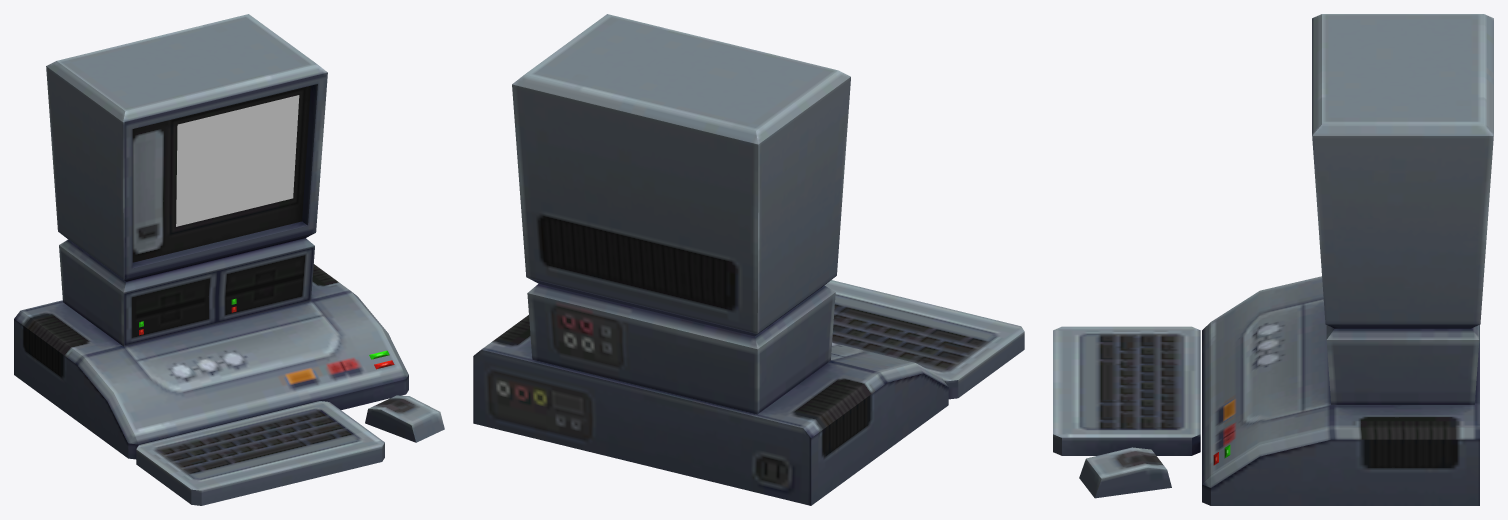
The model's file is computer.gltf.
The picture shows the model from 3 angles, left to right: view 1: azimuth 30°, elevation 25°; view 2: azimuth 150°, elevation 25°; view 3: azimuth 270°, elevation 25°; orthographic projection. The views are drawn at different scales.
Visible parts, largest first — view 1: s4studio_mesh_0, s4studio_mesh_2; view 2: s4studio_mesh_0; view 3: s4studio_mesh_0.
Boxes of the visible parts, left/top/right/bottom form: s4studio_mesh_0: left=14, top=14, right=444, bottom=505; s4studio_mesh_2: left=176, top=95, right=299, bottom=226; s4studio_mesh_0: left=473, top=14, right=1024, bottom=505; s4studio_mesh_0: left=1053, top=14, right=1493, bottom=505.
Size of the model in its own units: 0.4375 by 0.45 by 0.5048.
2 materials, 2 textured.
